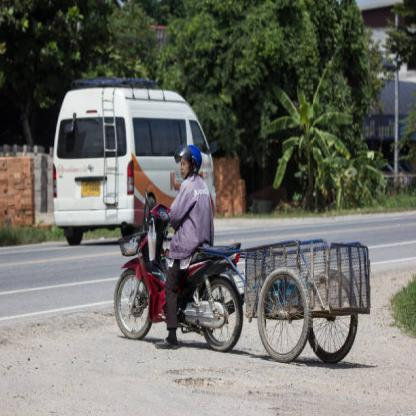Motorcycle: (112, 192, 245, 361)
